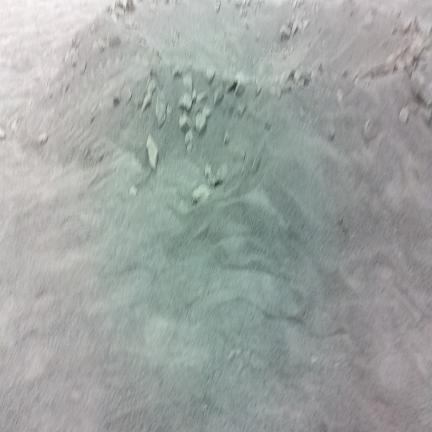Rock: (411, 70, 431, 107), (147, 135, 158, 169), (363, 119, 379, 142), (156, 93, 166, 128), (193, 184, 211, 203), (213, 164, 228, 186), (178, 93, 193, 111), (235, 72, 246, 96), (179, 113, 191, 133), (419, 107, 431, 124), (233, 146, 245, 163), (196, 113, 206, 133), (214, 87, 224, 106), (183, 74, 192, 94), (325, 123, 335, 141), (142, 93, 152, 111), (280, 24, 291, 40), (122, 86, 132, 102), (399, 107, 409, 123), (147, 79, 156, 96), (301, 69, 311, 84), (109, 36, 121, 48), (206, 68, 215, 83), (10, 118, 19, 133), (196, 91, 207, 103), (402, 20, 412, 33), (172, 66, 182, 78), (185, 129, 193, 144), (38, 132, 48, 144), (202, 105, 211, 118), (126, 0, 135, 12), (237, 104, 245, 117), (294, 69, 301, 83), (205, 164, 211, 179), (256, 79, 261, 96), (224, 131, 230, 145), (113, 95, 120, 107), (337, 89, 343, 102), (80, 61, 86, 74), (129, 186, 137, 195), (0, 128, 6, 140), (215, 0, 220, 13), (303, 20, 310, 29), (167, 105, 172, 117), (192, 90, 197, 102), (187, 142, 192, 153)
